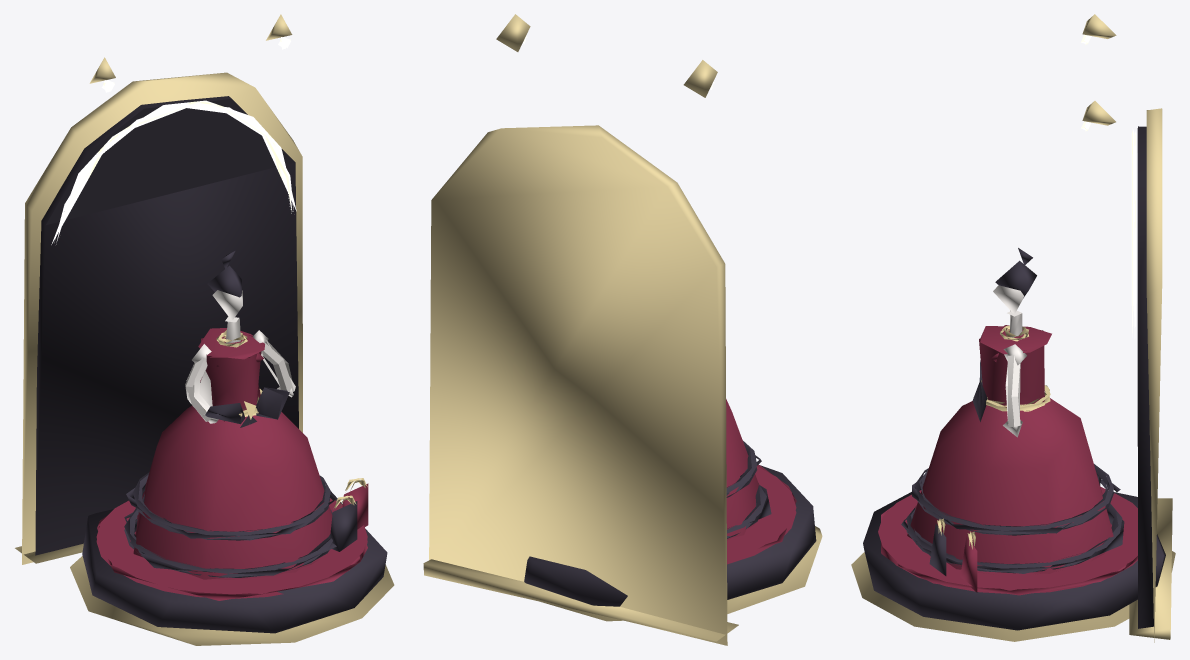
File: lod_mannequin_display.glb
The picture shows the model from 3 angles, left to right: view 1: azimuth 30°, elevation 25°; view 2: azimuth 150°, elevation 25°; view 3: azimuth 270°, elevation 25°; orthographic projection. The views are drawn at different scales.
Visible parts, largest first — view 1: mannequin_display; view 2: mannequin_display; view 3: mannequin_display.
Part boxes in pixels (left/top/right/bottom): mannequin_display: left=15, top=14, right=394, bottom=645; mannequin_display: left=423, top=14, right=822, bottom=645; mannequin_display: left=851, top=14, right=1175, bottom=642.
Size of the model in its own units: 1.96 by 3.36 by 1.9.
